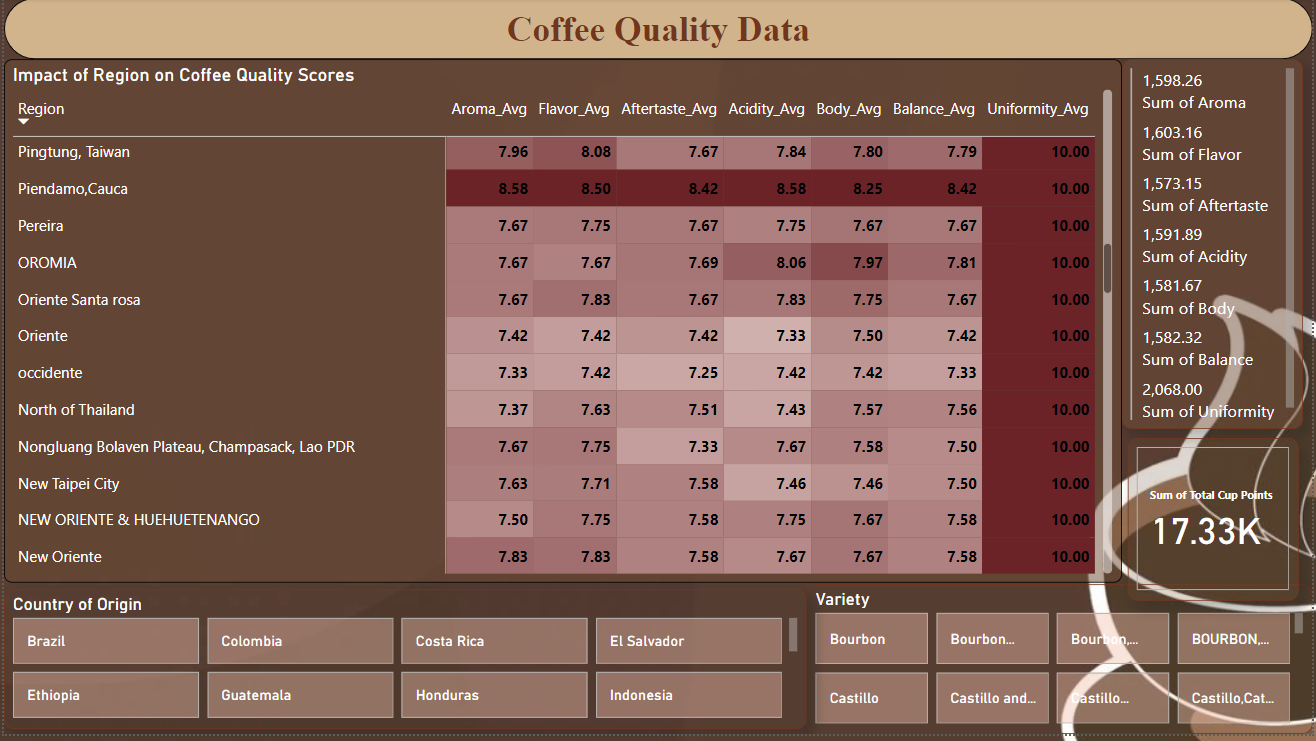

Layout of this report page (visuals, bound fields, positions):
{"tool":"powerbi","page":{"name":"Task -2.3","canvas":[1280,720],"ordinal":3},"visuals":[{"type":"shape","box":[0,0,1280.3,59.9],"z":0},{"type":"multiRowCard","fields":{"Values":["Sum(Cup Points.Aroma)","Sum(Cup Points.Flavor)","Sum(Cup Points.Aftertaste)","Sum(Cup Points.Acidity)","Sum(Cup Points.Body)","Sum(Cup Points.Balance)","Sum(coffee data.Uniformity)"]},"box":[1093.2,59.9,177.3,362],"z":1000},{"type":"advancedSlicerVisual","fields":{"Values":["coffee data.Variety"]},"box":[785.1,573.5,495.2,146.7],"z":2000},{"type":"pivotTable","title":"Impact of Region on Coffee Quality Scores","fields":{"Values":["Cup Points.Aroma_Avg","Cup Points.Flavor_Avg","Cup Points.Aftertaste_Avg","Cup Points.Acidity_Avg","Cup Points.Body_Avg","Cup Points.Balance_Avg","Cup Points.Uniformity_Avg"],"Rows":["coffee data.Region"]},"box":[0,59.9,1093.2,512.4],"z":3000},{"type":"cardVisual","fields":{"Data":["Sum(coffee data.Total Cup Points)"]},"box":[1099.3,430.4,167.5,159],"z":4000},{"type":"advancedSlicerVisual","fields":{"Values":["coffee data.Country of Origin"]},"box":[0,578.4,785.1,137],"z":5000}]}

Visuals, with their boxes in screenshot pixels (x1, y1, x2, y2), scaled from the page's 1280x720 canvas onto the 1316x741 screenshot:
shape: 0/0/1315/62
multiRowCard - Sum(Cup Points.Aroma) x Sum(Cup Points.Flavor): 1124/62/1306/434
advancedSlicerVisual - coffee data.Variety: 807/590/1315/740
"Impact of Region on Coffee Quality Scores" pivotTable: 0/62/1124/589
cardVisual - Sum(coffee data.Total Cup Points): 1130/443/1302/607
advancedSlicerVisual - coffee data.Country of Origin: 0/595/807/736
